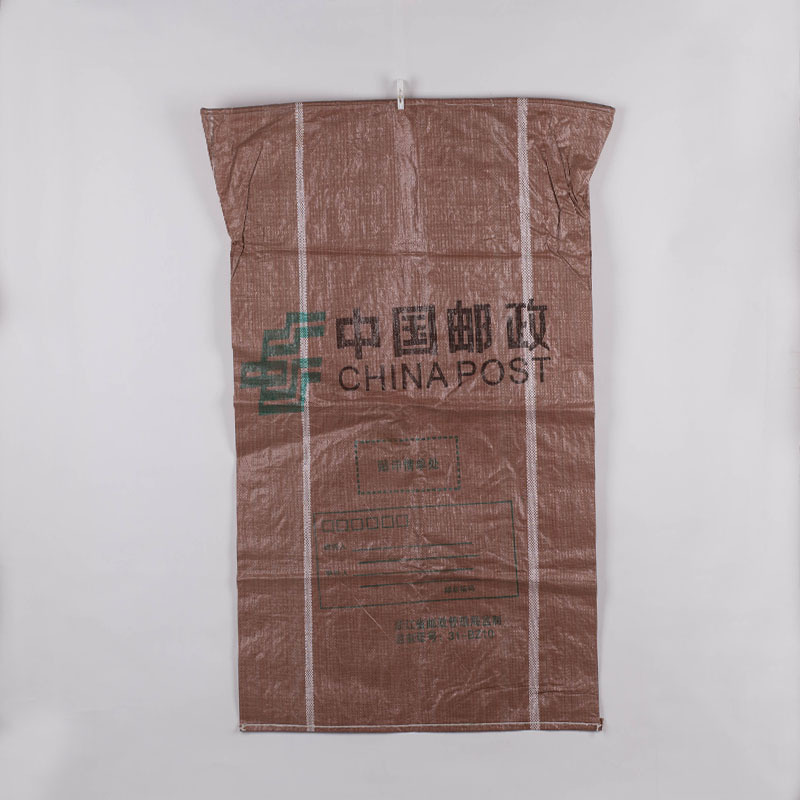塑料袋: (202, 99, 613, 731)
